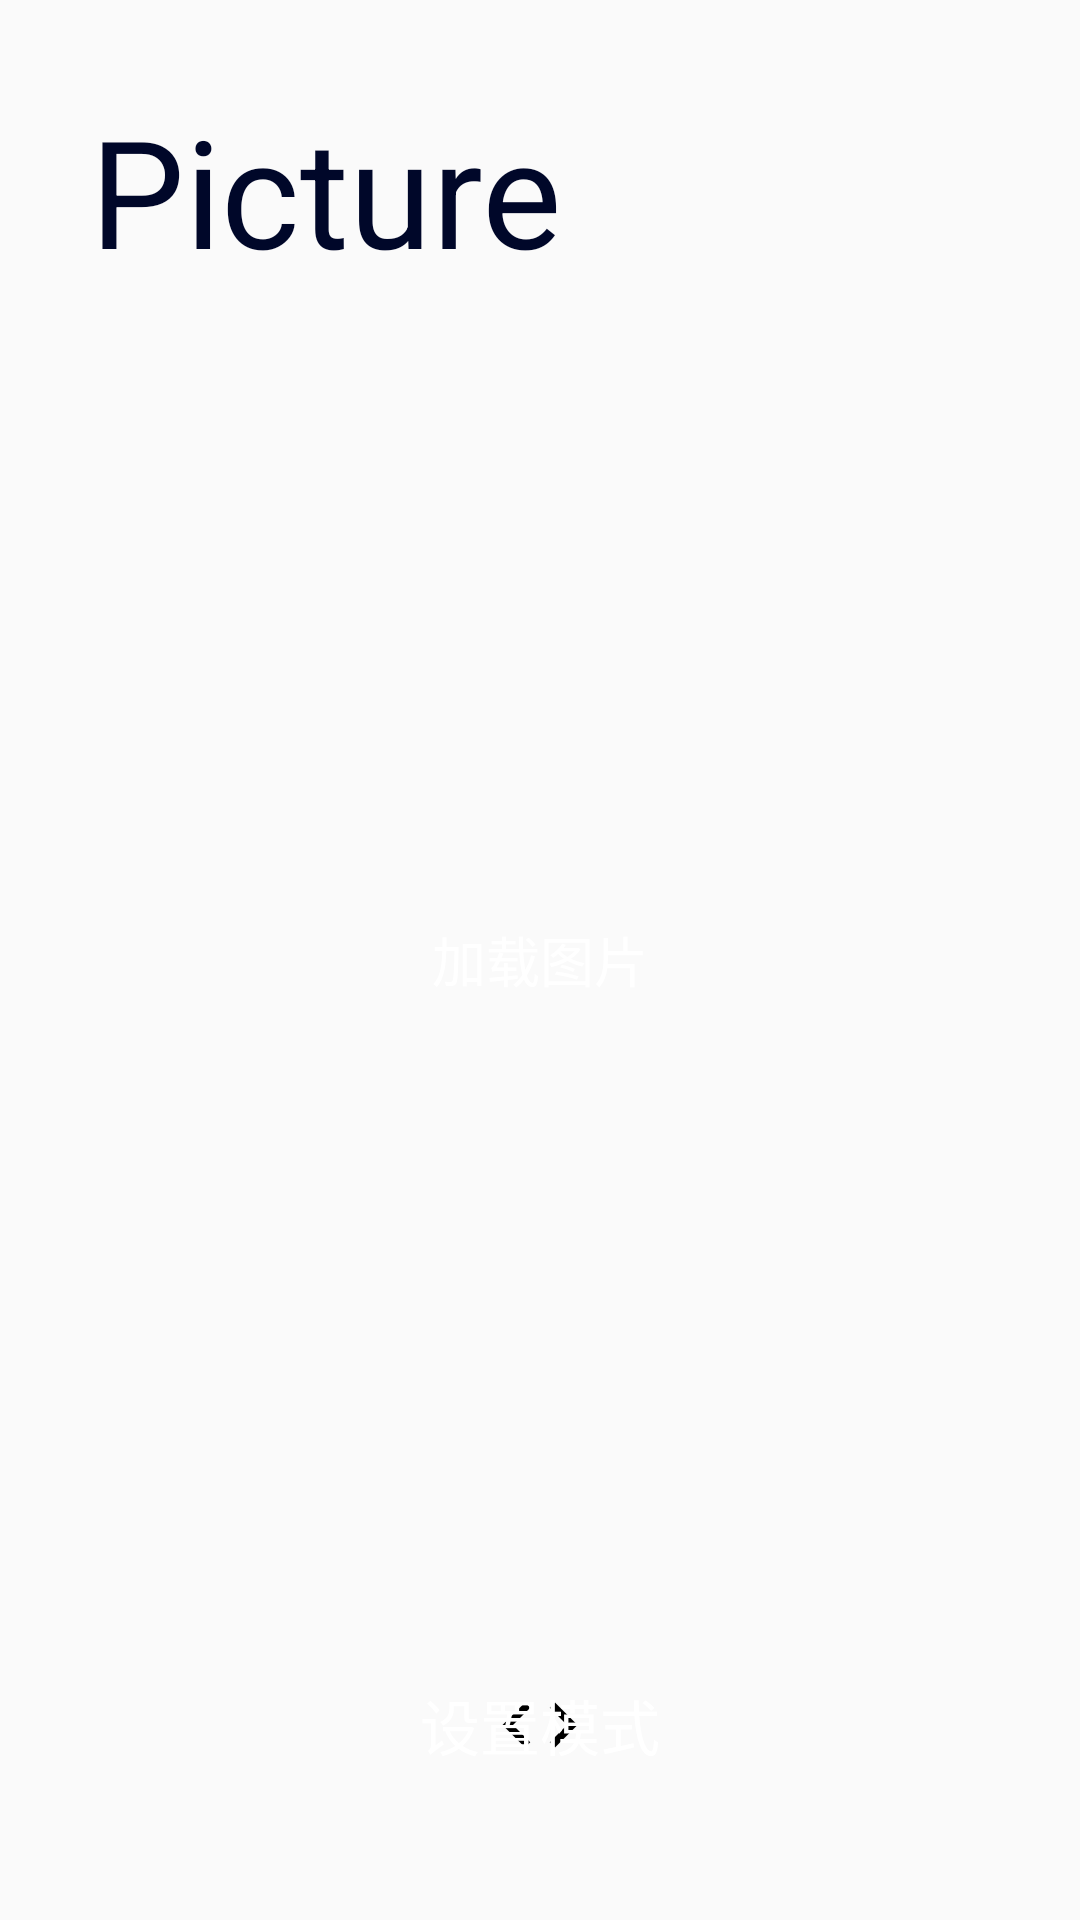

Icons on this 1080px x 1920px Android screen, each with the point to tap as (x=x, y=y):
code: (x=539, y=1725)
